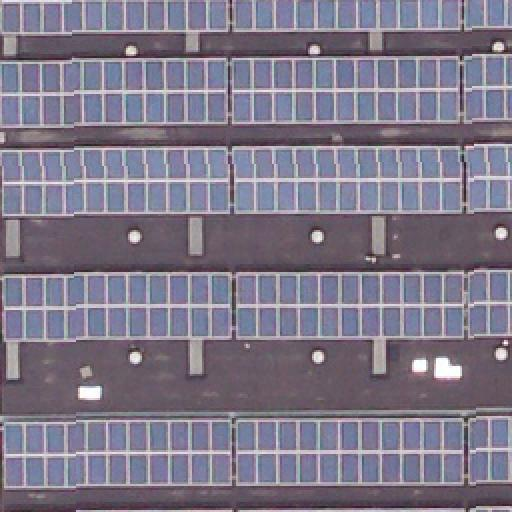solar-panel: (233, 416, 511, 484), (0, 417, 232, 487), (233, 269, 463, 339), (229, 57, 459, 127), (0, 145, 228, 215), (0, 57, 228, 127), (0, 274, 232, 342), (229, 148, 459, 216), (0, 0, 228, 36), (233, 0, 463, 32), (464, 54, 512, 122), (464, 147, 512, 213), (465, 271, 511, 337), (464, 1, 512, 31), (279, 505, 465, 511), (104, 508, 232, 512), (472, 508, 512, 512)
